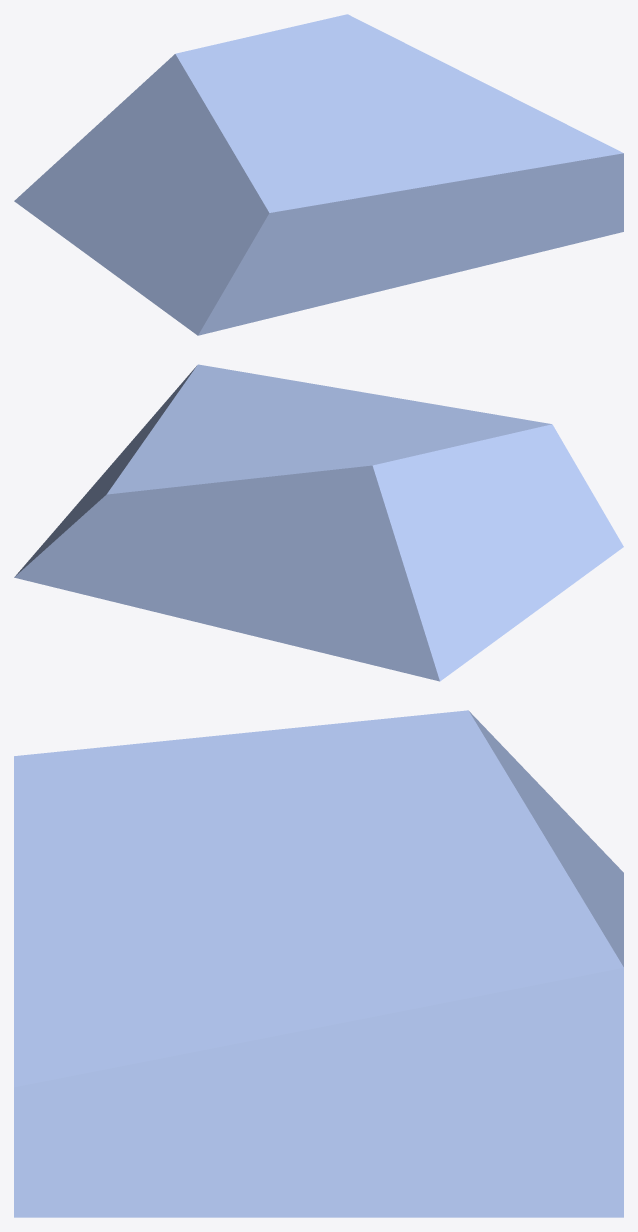
File: Pebble 1.fbx
3 renders of one model, top to bottom at view 1: azimuth 30°, elevation 25°; view 2: azimuth 150°, elevation 25°; view 3: azimuth 270°, elevation 25°, orthographic. The views are drawn at different scales.
Visible parts, largest first — view 1: Cube.028; view 2: Cube.028; view 3: Cube.028.
Boxes of the visible parts, x1,y1,x2,y2 form: Cube.028: (14,14,623,335); Cube.028: (14,364,623,681); Cube.028: (14,710,623,1217).
Size of the model in its own units: 2.15 by 0.7418 by 1.61.
